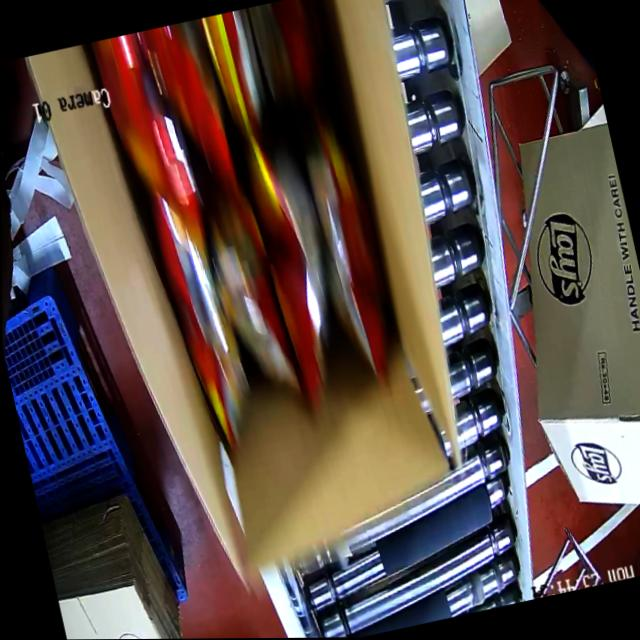MASALA: (95, 0, 411, 453)
